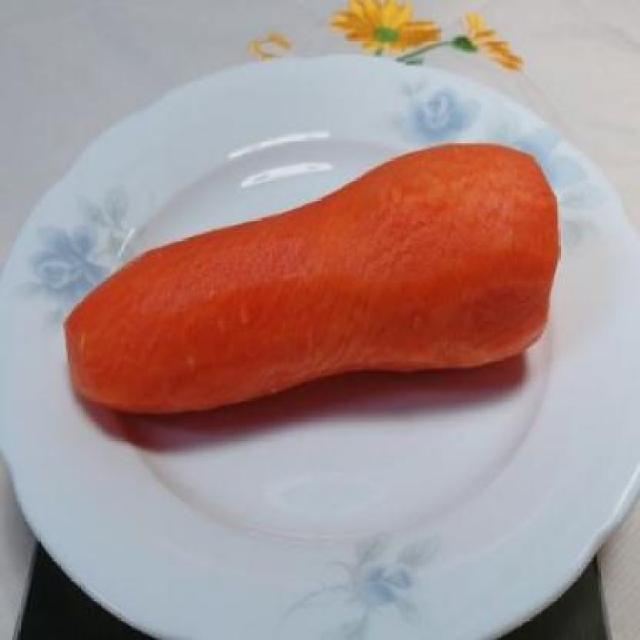carrot: (61, 126, 567, 420)
